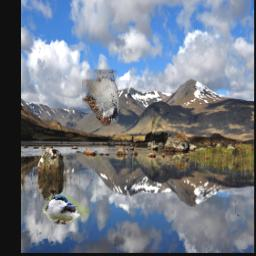Sparrow: (82, 69, 118, 126)
Swallow: (42, 194, 89, 224)
